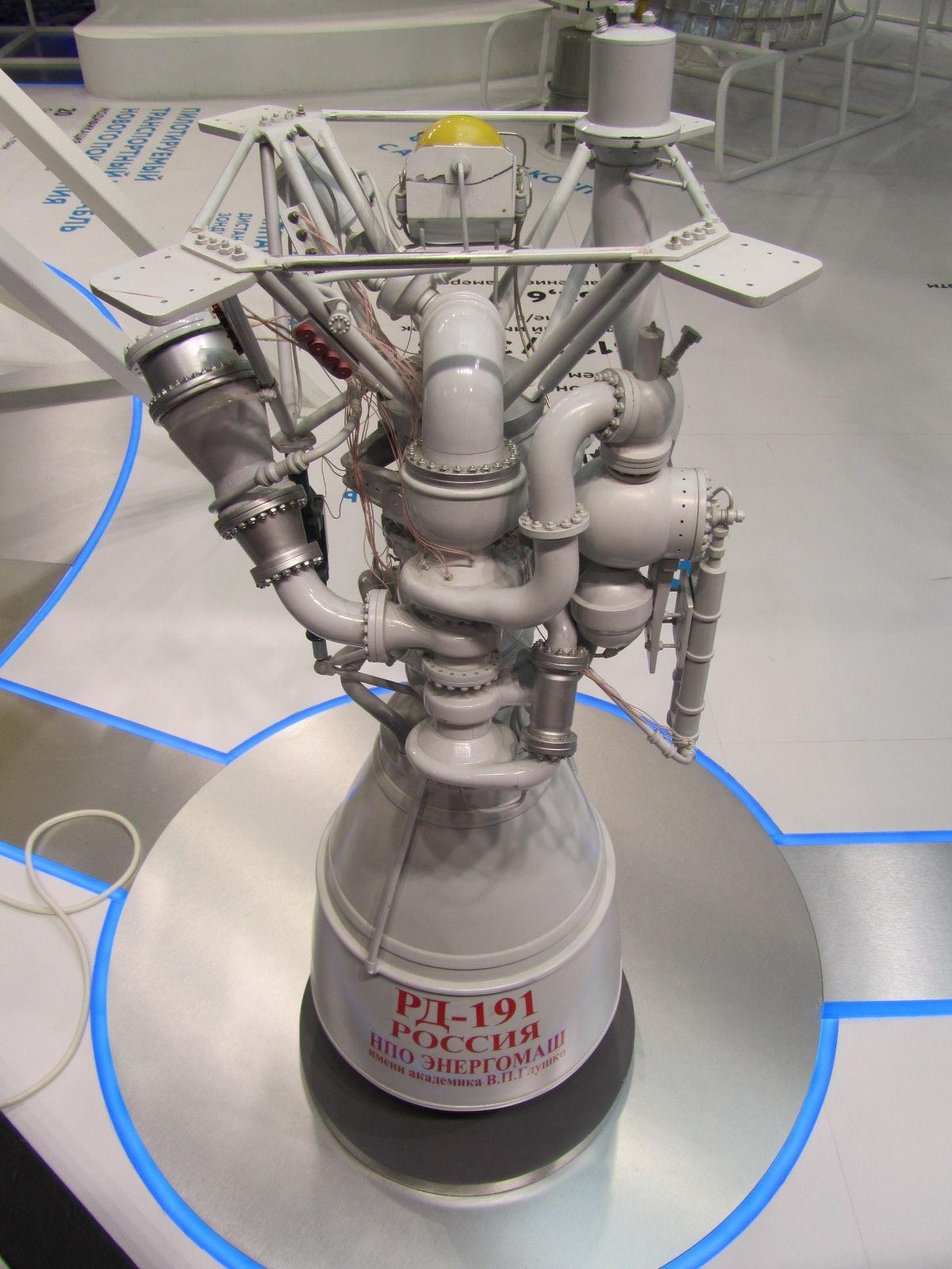thruster: (307, 724, 628, 1117)
